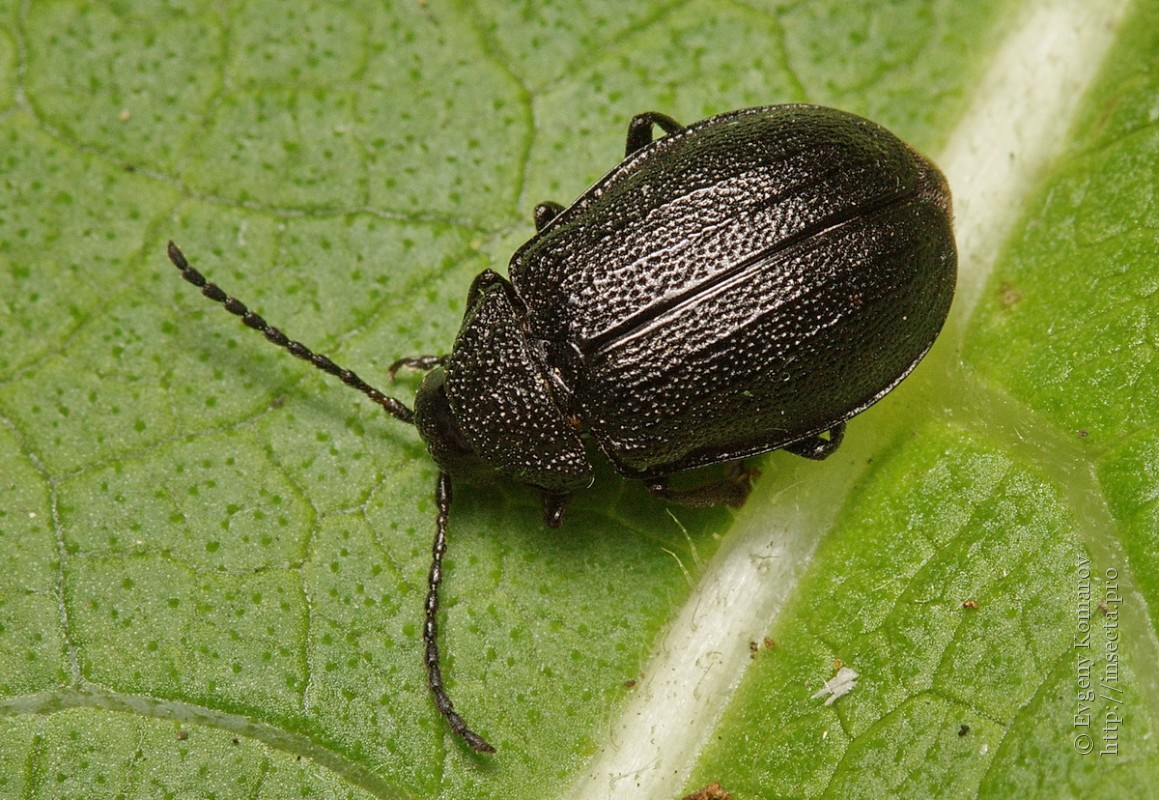Galeruca_tanaceti: (164, 92, 965, 753)
